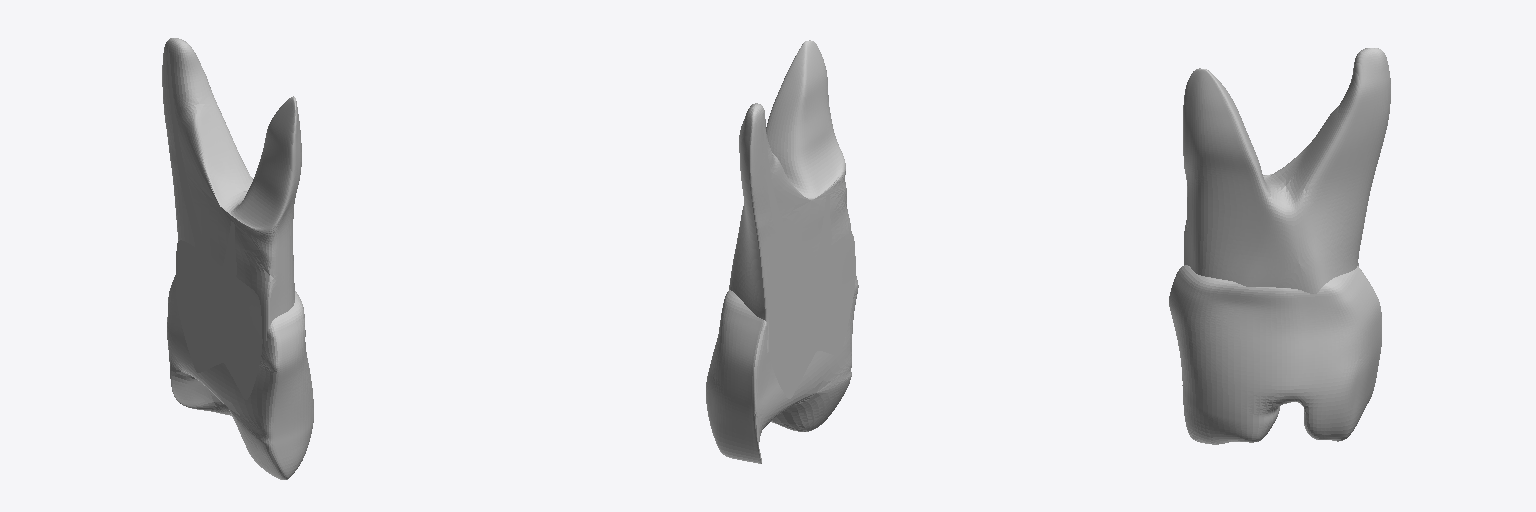
File: Longitudinal.obj
3 views of the same model, side by side, from view 1: azimuth 30°, elevation 25°; view 2: azimuth 150°, elevation 25°; view 3: azimuth 270°, elevation 25° (orthographic).
Parts seen in each view (by area): view 1: Cylinder, Cylinder.001, Plane, Plane.001; view 2: Cylinder, Cylinder.001, Plane, Plane.001; view 3: Cylinder, Cylinder.001.
Part boxes in pixels (x1,y1,x2,y2): Cylinder: (162,38,301,348); Cylinder.001: (167,275,313,479); Plane: (176,240,262,399); Plane.001: (168,46,236,344); Cylinder: (729,40,851,352); Cylinder.001: (706,276,858,463); Plane: (769,233,855,398); Plane.001: (763,113,831,335); Cylinder: (1183,48,1390,293); Cylinder.001: (1169,265,1381,444).
Bounding box in the file's own units: 1.21 × 5.37 × 2.81.